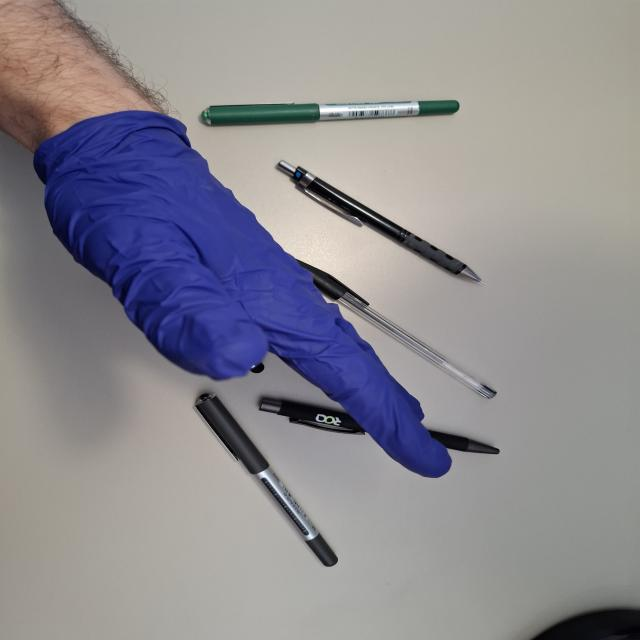glove_on: (32, 104, 454, 482)
